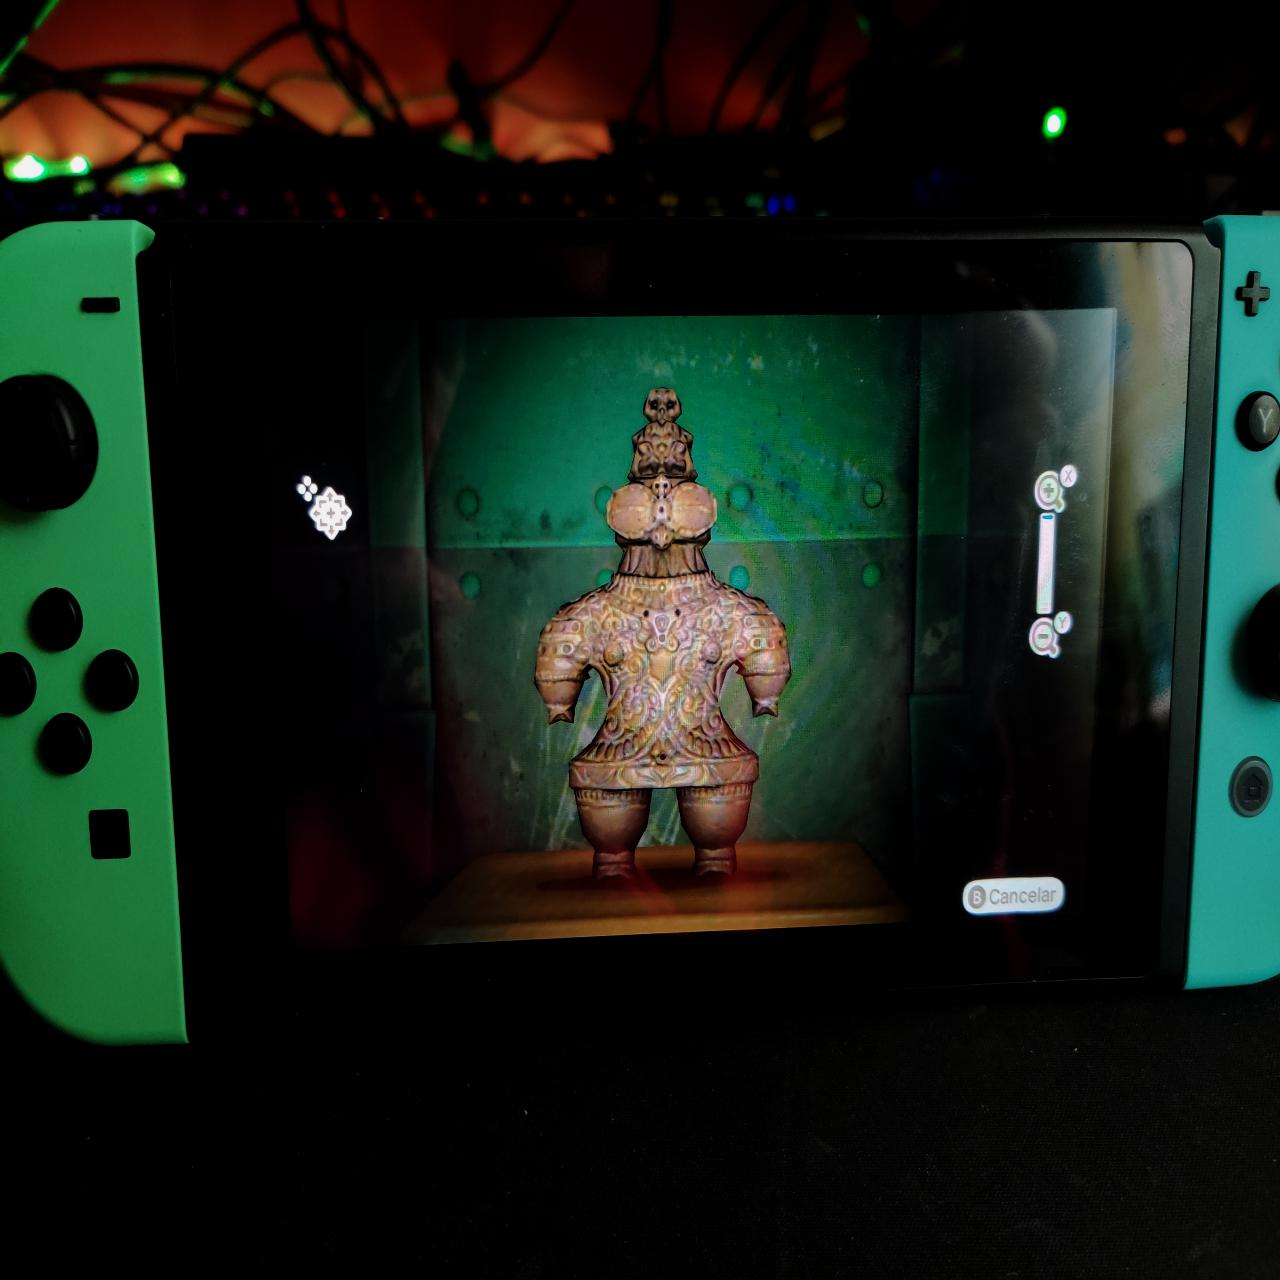Doguu: (527, 374, 802, 891)
